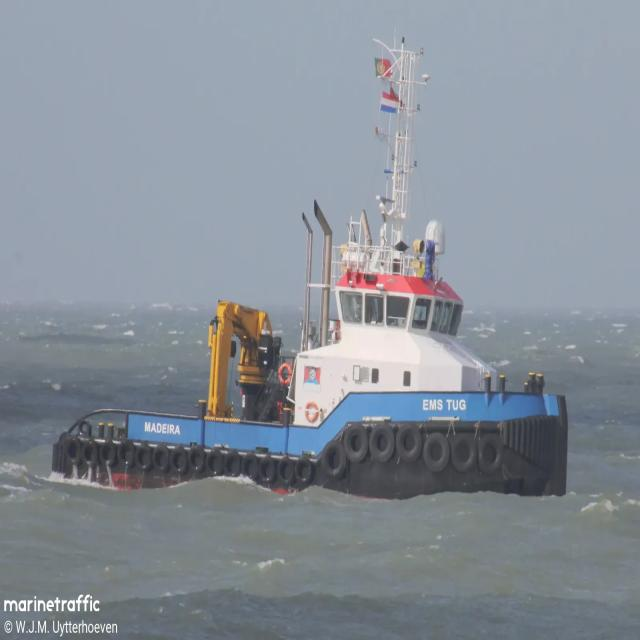Tug: (53, 44, 567, 499)
